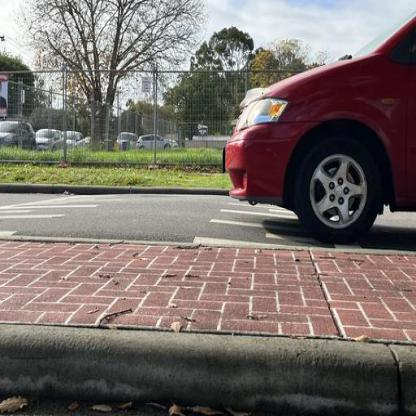Tire: (296, 132, 381, 241)
